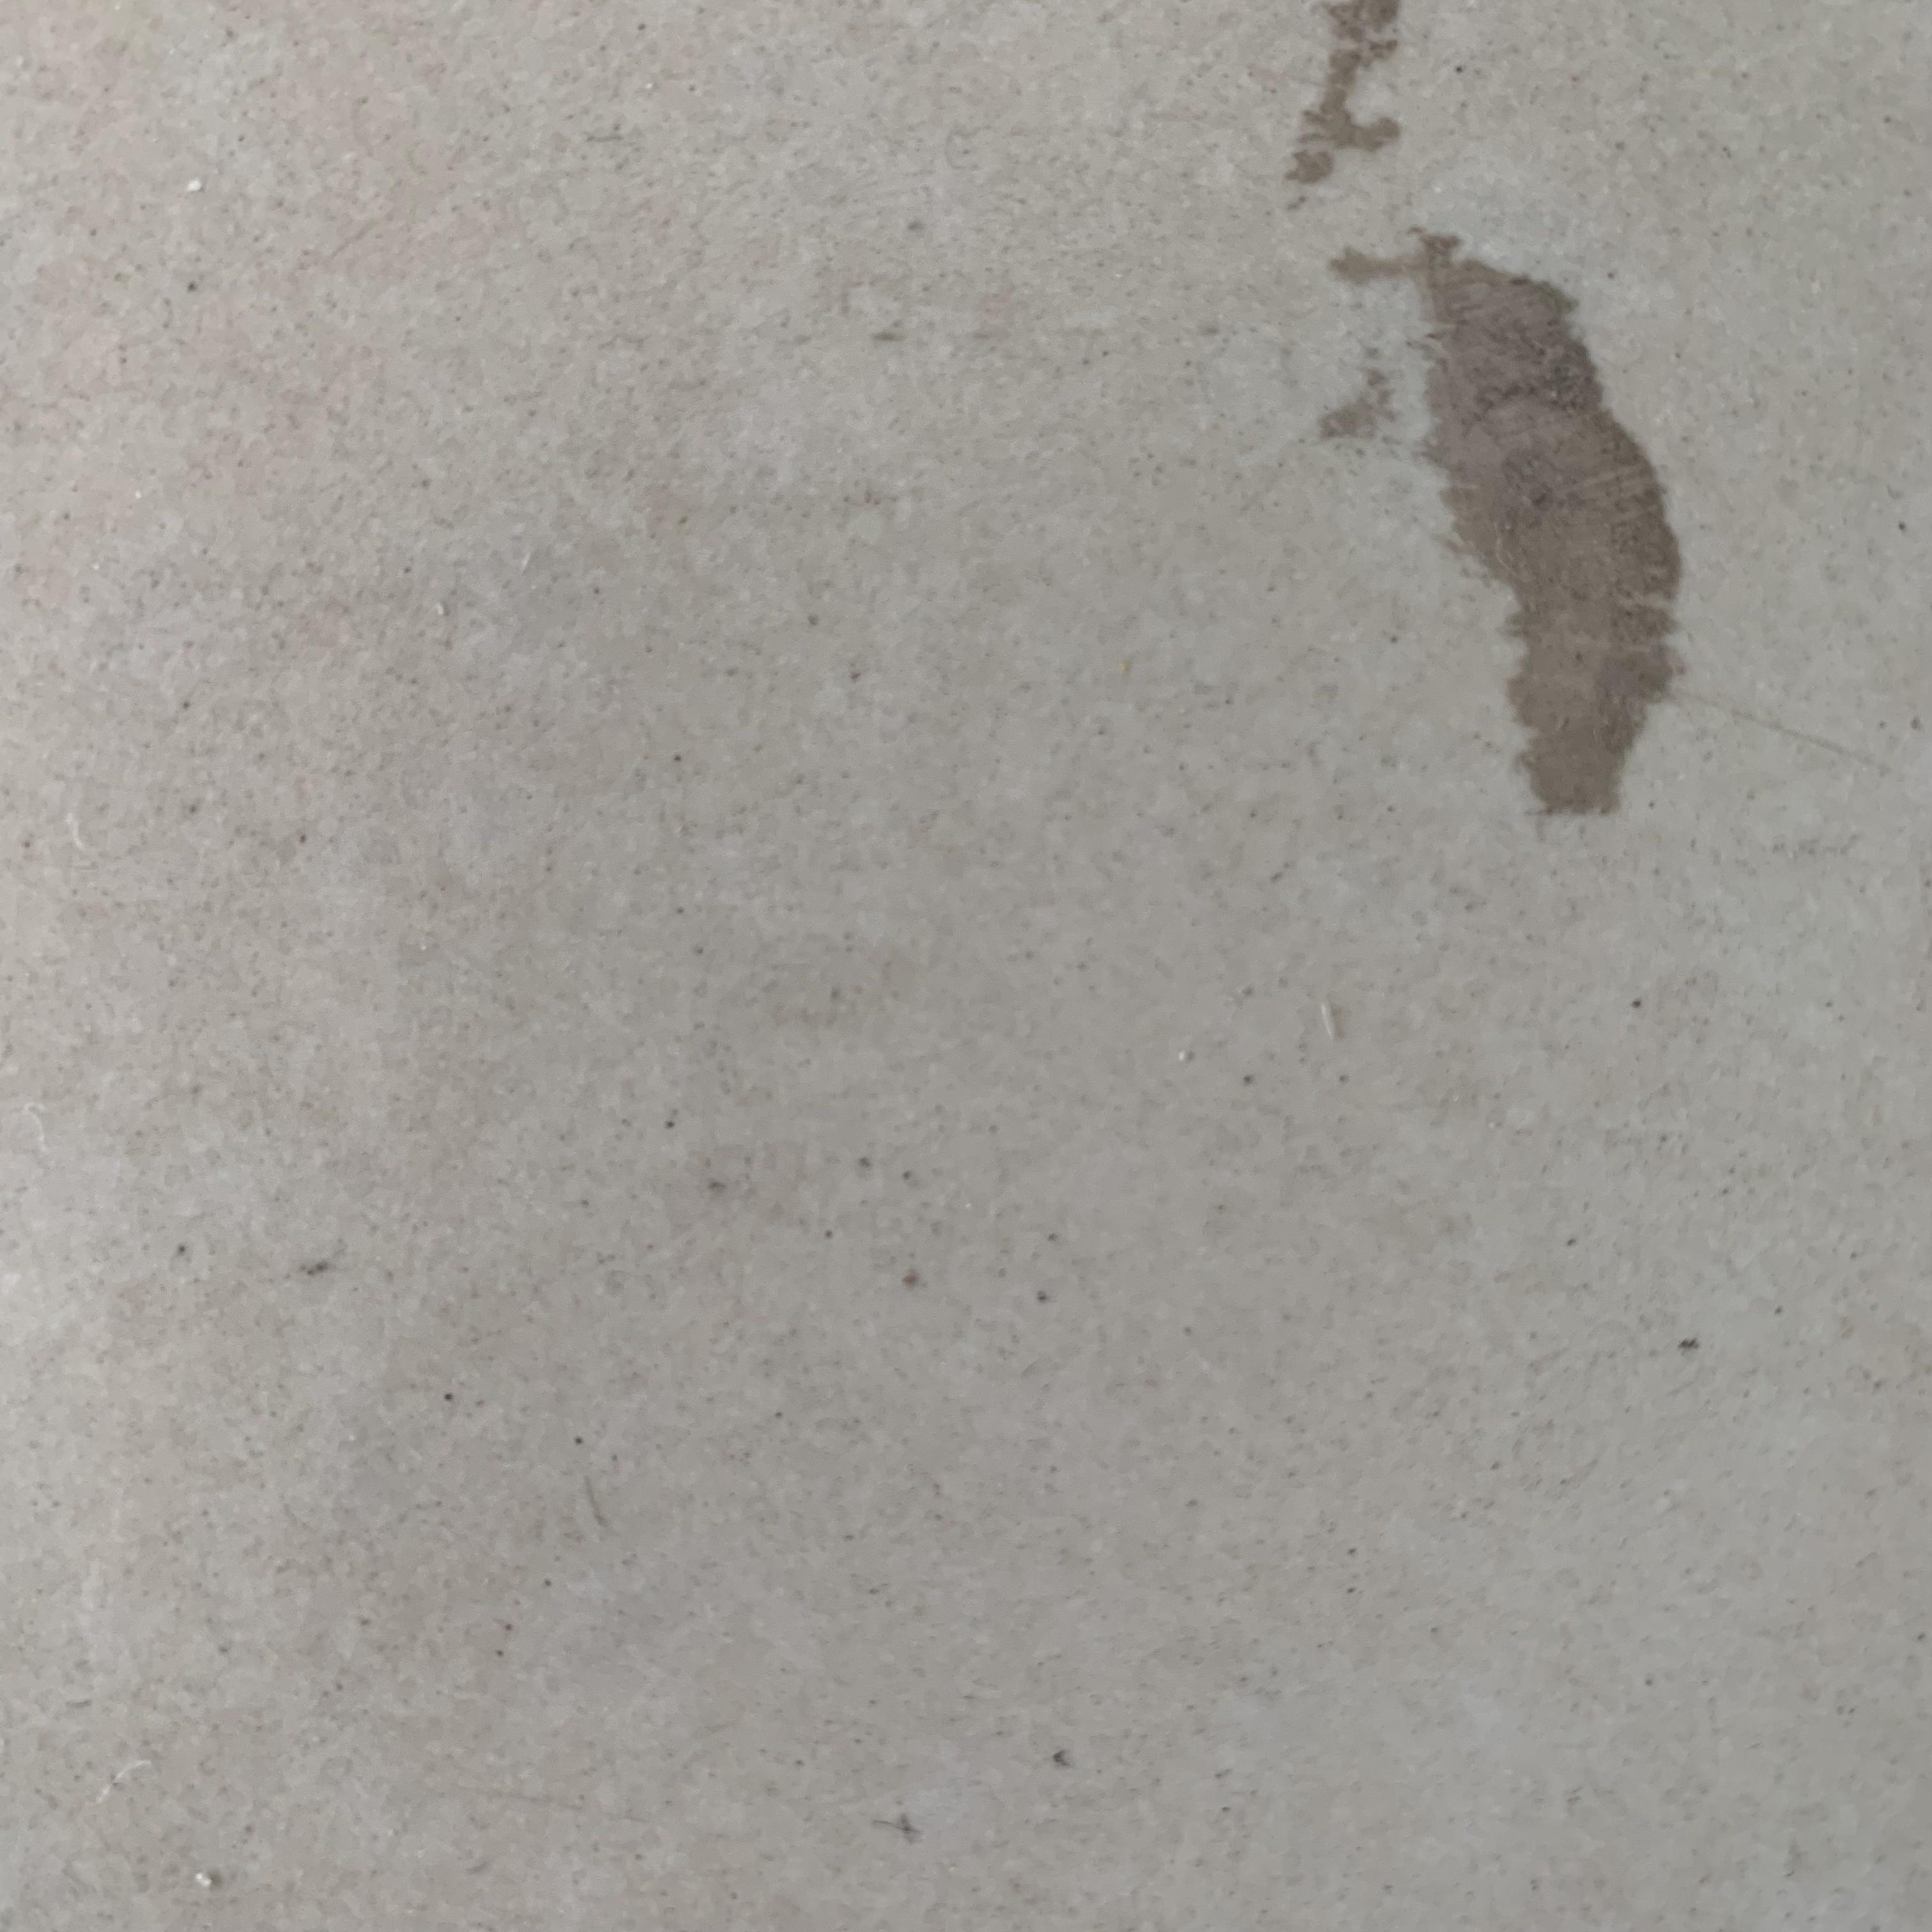grey spot: (1318, 230, 1691, 819), (1284, 4, 1408, 216)
